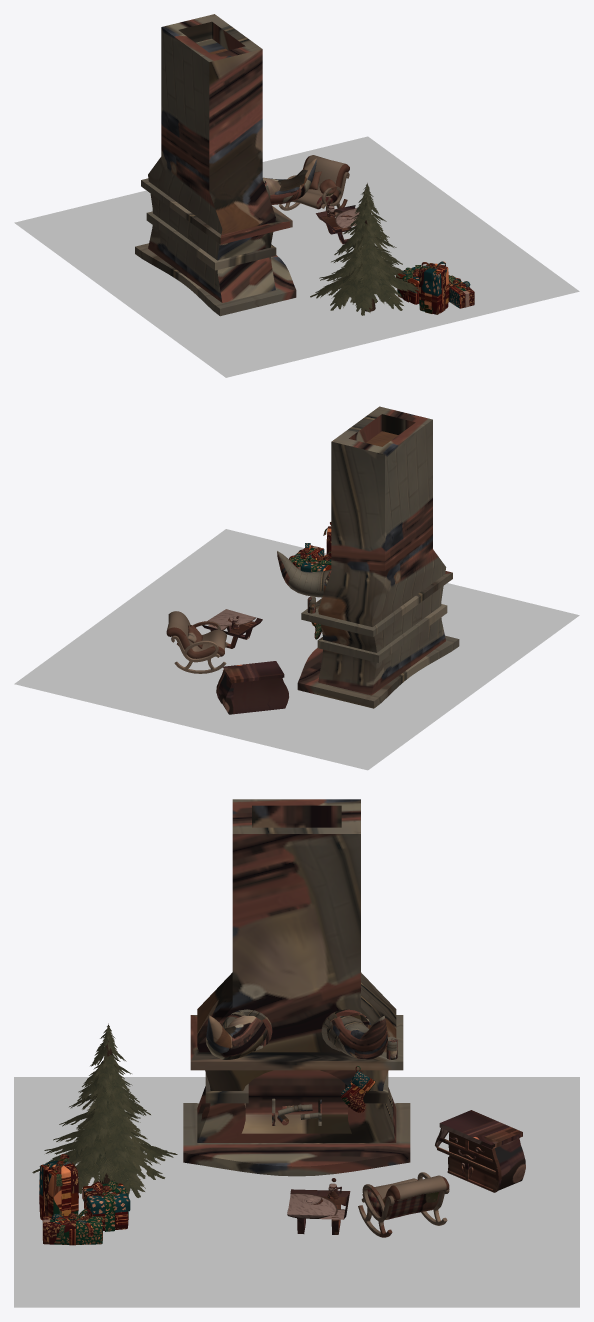
File: HeavyWithoutWalls.obj
3 views of the same model, one above another, from view 1: azimuth 30°, elevation 25°; view 2: azimuth 150°, elevation 25°; view 3: azimuth 270°, elevation 25° (orthographic). The views are drawn at different scales.
Visible parts, largest first — view 1: Plane, fireplace_low, spruceleaf3_low.039, chair_low, horns_low, christmasGiftbox1_low, table_low, ChristmasGiftbox1Ribbon_low, chairlegs_low; view 2: Plane, fireplace_low, chestOfDrawers_low, chair_low, horns_low, table_low, chairlegs_low; view 3: Plane, fireplace_low, spruceleaf3_low.039, chestOfDrawers_low, horns_low, chair_low, table_low, chairlegs_low, christmasGiftbox2_low, christmasGiftbox1_low, christmasGiftbox_low, hornsBase_low (+2 smaller).
Part boxes in pixels (x1,y1,x2,y2): Plane: [14, 136, 579, 377]; fireplace_low: [135, 14, 296, 316]; spruceleaf3_low.039: [310, 183, 418, 315]; chair_low: [292, 155, 349, 209]; horns_low: [263, 158, 316, 204]; christmasGiftbox1_low: [419, 263, 448, 314]; table_low: [316, 205, 359, 244]; ChristmasGiftbox1Ribbon_low: [424, 263, 445, 313]; chairlegs_low: [279, 172, 349, 220]; Plane: [14, 529, 579, 770]; fireplace_low: [297, 406, 459, 708]; chestOfDrawers_low: [216, 661, 288, 714]; chair_low: [166, 611, 226, 658]; horns_low: [277, 551, 330, 597]; table_low: [202, 609, 262, 648]; chairlegs_low: [171, 621, 228, 673]; Plane: [14, 1077, 579, 1307]; fireplace_low: [183, 799, 410, 1176]; spruceleaf3_low.039: [32, 1023, 177, 1197]; chestOfDrawers_low: [435, 1110, 525, 1192]; horns_low: [206, 1015, 387, 1059]; chair_low: [362, 1175, 449, 1219]; table_low: [287, 1189, 350, 1234]; chairlegs_low: [358, 1172, 449, 1237]; christmasGiftbox2_low: [43, 1216, 102, 1244]; christmasGiftbox1_low: [39, 1161, 78, 1220]; christmasGiftbox_low: [82, 1183, 130, 1230]; hornsBase_low: [222, 1009, 371, 1051].
Bounding box in the file's own units: 18.41 × 11.92 × 19.09.
